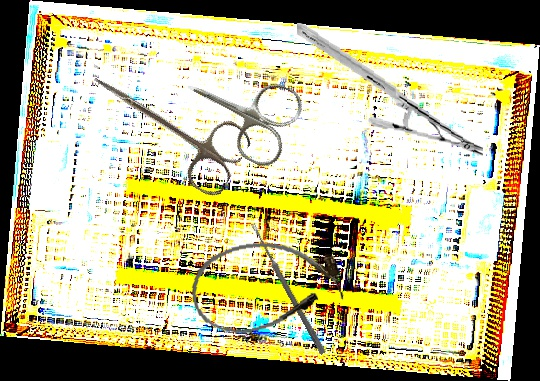Cannula: (185, 230, 348, 342)
Iris Scissors: (73, 49, 256, 201), (169, 48, 309, 172)
Needle Holder: (287, 22, 493, 158)
Surgical Spoon: (249, 222, 327, 355)
